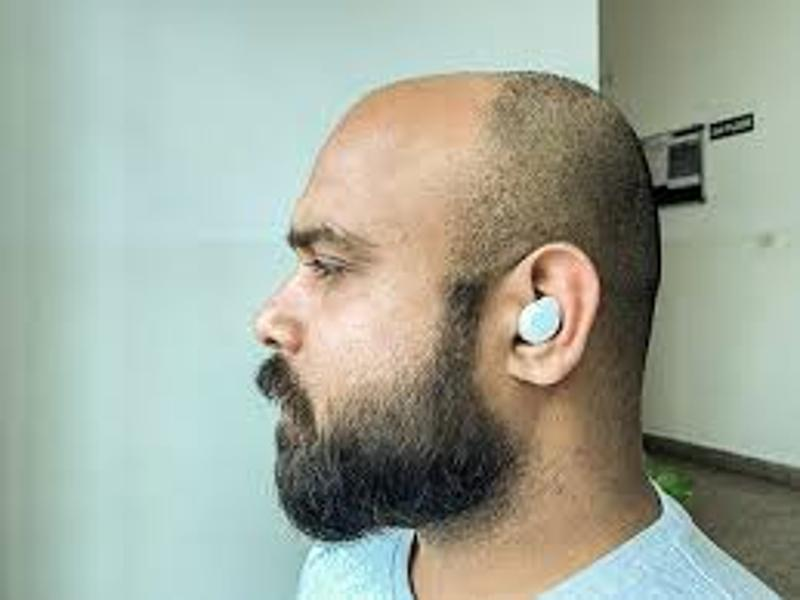headphone: (518, 296, 564, 347)
